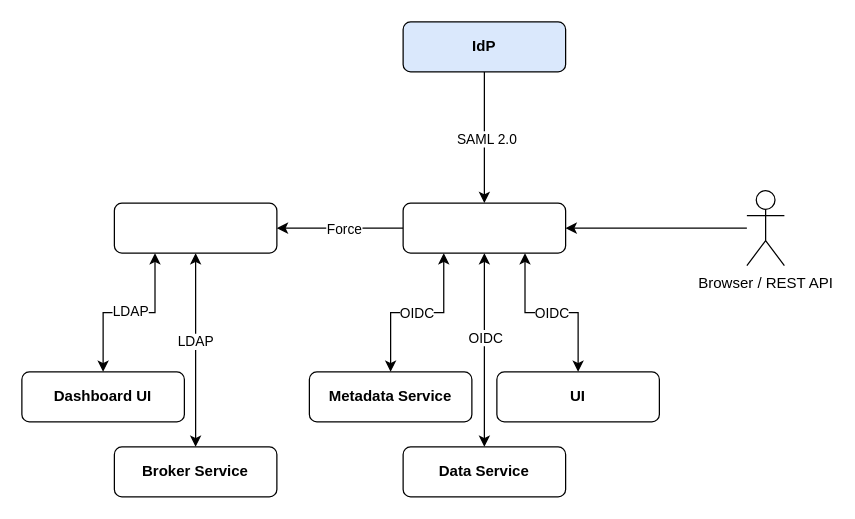
This 855x519 diagram has some shape labels left out. Each missing label, with the centre of its shape:
Auth Service Keycloak: [484,227]
Identity Service OpenLDAP: [195,227]
